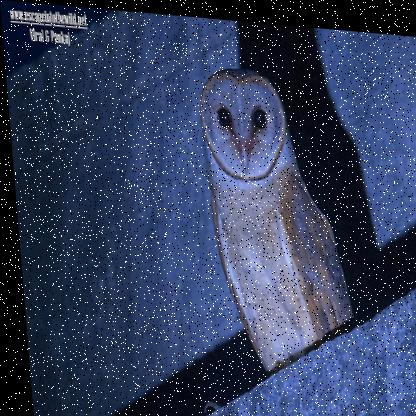Burung: (195, 61, 351, 356)
